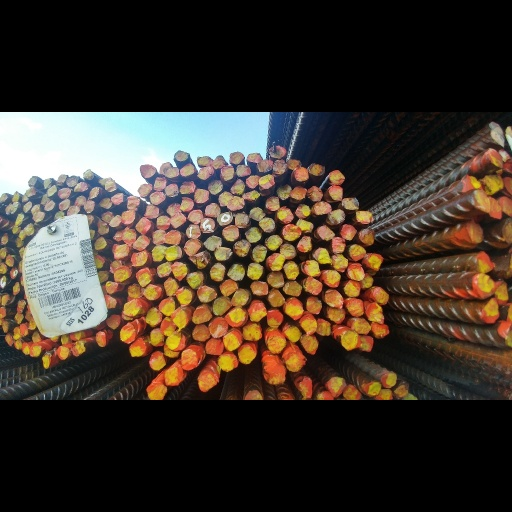dipstick: (365, 336, 387, 380), (264, 444, 288, 484), (127, 398, 150, 439), (297, 395, 322, 432), (283, 326, 304, 369), (223, 346, 248, 381), (180, 421, 202, 460), (170, 345, 189, 390), (222, 385, 243, 425), (121, 330, 143, 368), (278, 196, 303, 228), (207, 362, 227, 401), (197, 460, 217, 499), (299, 357, 319, 395), (236, 413, 257, 449), (345, 330, 367, 364), (324, 314, 345, 349), (281, 376, 302, 411), (196, 304, 218, 337), (325, 471, 347, 504), (205, 397, 224, 435), (265, 248, 285, 284), (330, 250, 351, 284), (218, 428, 239, 462), (190, 344, 212, 376), (266, 389, 286, 424), (303, 291, 324, 324), (349, 364, 371, 395), (242, 376, 263, 408), (119, 375, 137, 412), (371, 309, 391, 342), (182, 224, 203, 255), (232, 225, 253, 256), (300, 262, 321, 293), (148, 424, 166, 460), (323, 278, 342, 312), (327, 344, 347, 376), (146, 480, 166, 512), (264, 282, 285, 312), (135, 276, 153, 311), (348, 232, 367, 265), (312, 239, 331, 272), (135, 185, 154, 218), (227, 267, 246, 300), (158, 329, 177, 362), (164, 452, 183, 485), (298, 470, 314, 509), (266, 349, 284, 383), (316, 200, 337, 229), (348, 268, 367, 300), (212, 328, 231, 360), (145, 348, 164, 380), (365, 250, 385, 280), (359, 205, 376, 240), (343, 298, 362, 329), (147, 385, 166, 416), (248, 300, 269, 328), (282, 299, 302, 328), (341, 385, 358, 419), (315, 366, 332, 400), (245, 201, 263, 233), (283, 264, 301, 296), (220, 296, 238, 328), (143, 304, 161, 336), (192, 376, 210, 408), (307, 87, 326, 117), (305, 130, 324, 160), (266, 315, 285, 345), (306, 327, 323, 360), (113, 274, 133, 302), (328, 99, 347, 128), (203, 220, 225, 245), (277, 166, 294, 198), (171, 265, 187, 299), (163, 292, 179, 326), (147, 139, 167, 166), (226, 148, 246, 175), (257, 109, 276, 137), (278, 232, 297, 260), (164, 236, 183, 264), (380, 459, 397, 490), (264, 216, 282, 245), (269, 57, 289, 83), (172, 63, 191, 90), (203, 160, 222, 187), (133, 219, 149, 251), (222, 200, 239, 230), (218, 95, 236, 123), (187, 284, 205, 312), (213, 238, 233, 263), (342, 195, 358, 226), (332, 218, 345, 256), (356, 174, 374, 201), (142, 162, 160, 189), (328, 128, 344, 158), (313, 159, 333, 183), (210, 267, 225, 299), (229, 120, 246, 148), (112, 234, 129, 262), (180, 148, 198, 174), (247, 267, 263, 296), (139, 90, 156, 117), (164, 208, 181, 235), (342, 151, 360, 176), (169, 179, 186, 205), (102, 323, 119, 349), (345, 483, 362, 509), (289, 133, 308, 156), (298, 219, 313, 248), (207, 119, 223, 146), (155, 184, 171, 211), (105, 358, 121, 385), (294, 163, 311, 188), (163, 127, 180, 152), (329, 172, 345, 198), (234, 179, 250, 205), (104, 299, 120, 325), (248, 168, 266, 191), (179, 121, 196, 145), (149, 238, 165, 263), (70, 408, 86, 433), (185, 200, 201, 224), (266, 148, 280, 175), (96, 191, 110, 218), (229, 69, 244, 94), (211, 75, 226, 100), (126, 149, 141, 174), (295, 98, 310, 122), (121, 174, 136, 198), (138, 125, 153, 149), (198, 96, 215, 117), (54, 416, 70, 438), (260, 188, 274, 213), (94, 391, 108, 416), (163, 97, 180, 117), (360, 400, 374, 424), (110, 142, 125, 164), (107, 182, 122, 203), (92, 253, 104, 277), (195, 75, 210, 94), (237, 93, 251, 113), (42, 428, 52, 456), (58, 132, 72, 152), (10, 302, 22, 325), (73, 123, 88, 141), (73, 148, 87, 167), (100, 151, 112, 173), (88, 134, 101, 154), (16, 333, 26, 359), (83, 101, 95, 122), (32, 175, 45, 194), (4, 250, 14, 274), (104, 120, 115, 141), (15, 221, 26, 242), (30, 413, 40, 436), (66, 112, 78, 131), (247, 72, 261, 88), (85, 158, 95, 180), (21, 408, 30, 432), (0, 323, 10, 344), (289, 80, 300, 99), (14, 358, 25, 377), (25, 133, 37, 149), (24, 200, 34, 219), (12, 141, 22, 160), (16, 180, 25, 201), (5, 395, 14, 416), (44, 157, 55, 174), (42, 119, 54, 134), (19, 376, 28, 396), (23, 159, 32, 178), (1, 371, 9, 392), (28, 115, 39, 129), (61, 396, 69, 413)
w: (93, 219, 109, 245), (101, 176, 114, 196)
